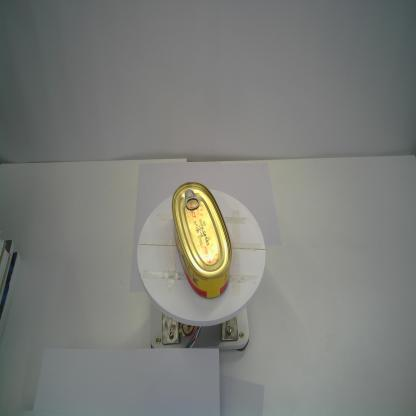Canned Food: (172, 182, 232, 300)
